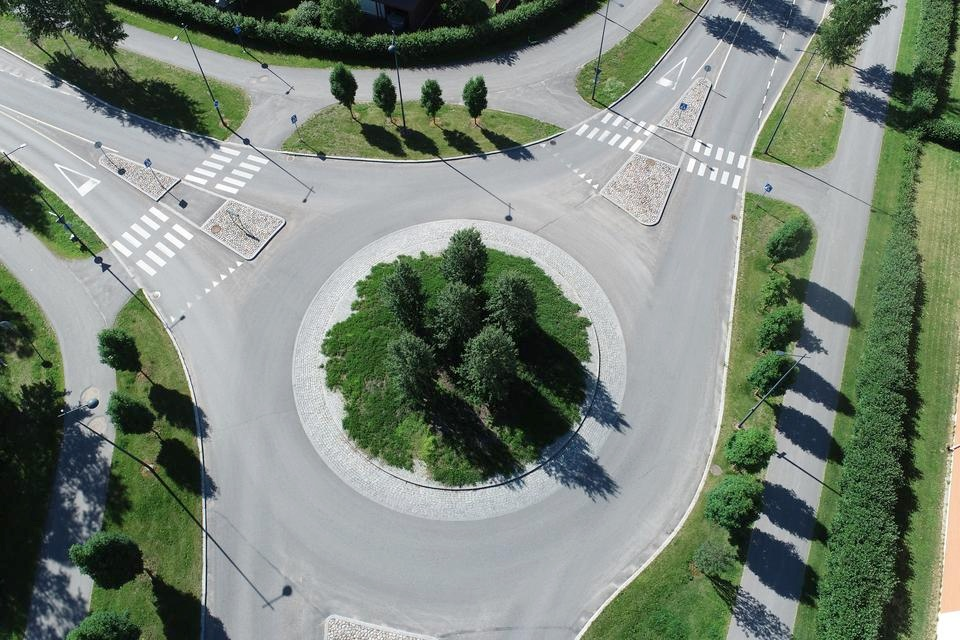roundabout: (173, 120, 752, 621)
